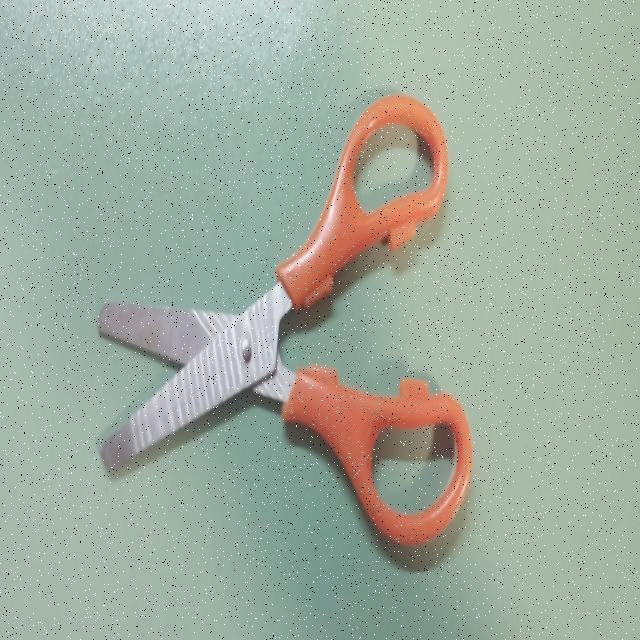scissors: (94, 81, 476, 568)
